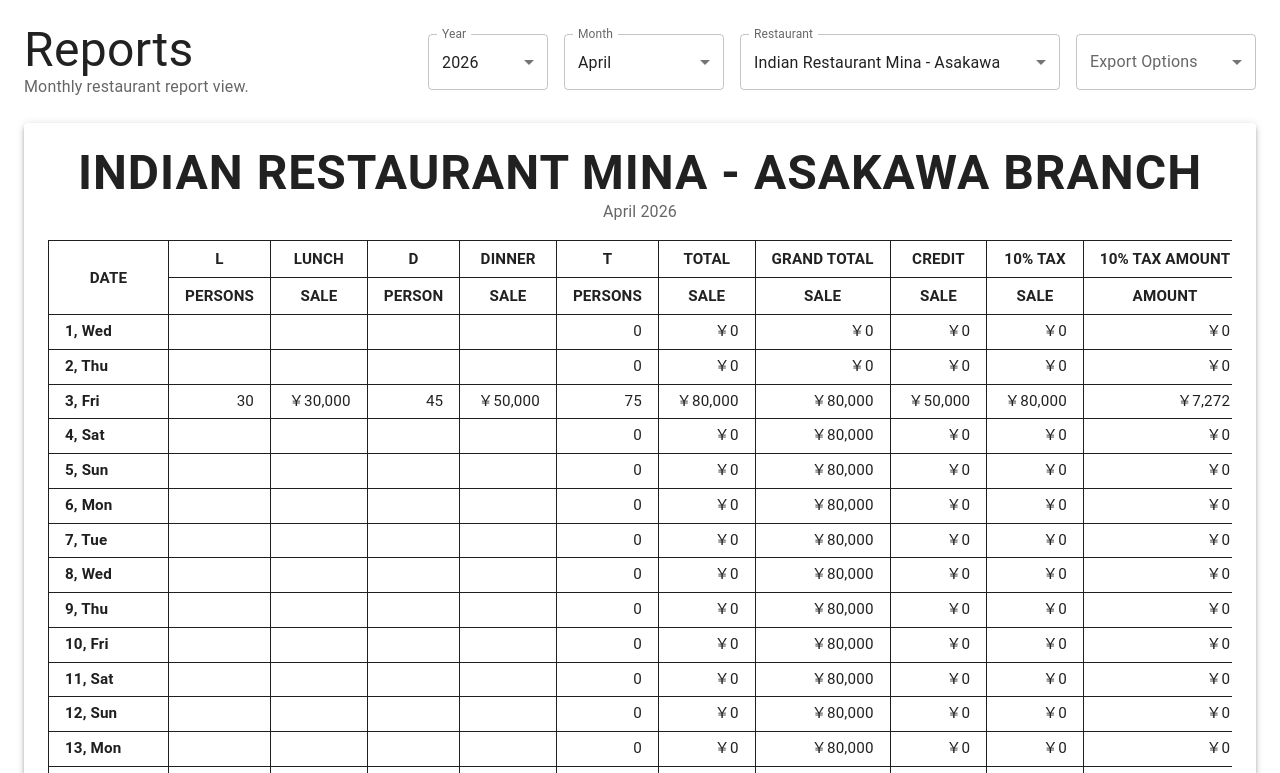
Test: Reports page › opens a day detail popup when a report date is clicked
Expected: the text "Monthly restaurant report view." is shown, [24, 75, 249, 99]
Click the dropdown named "month" at (595, 62), box [578, 53, 611, 72]
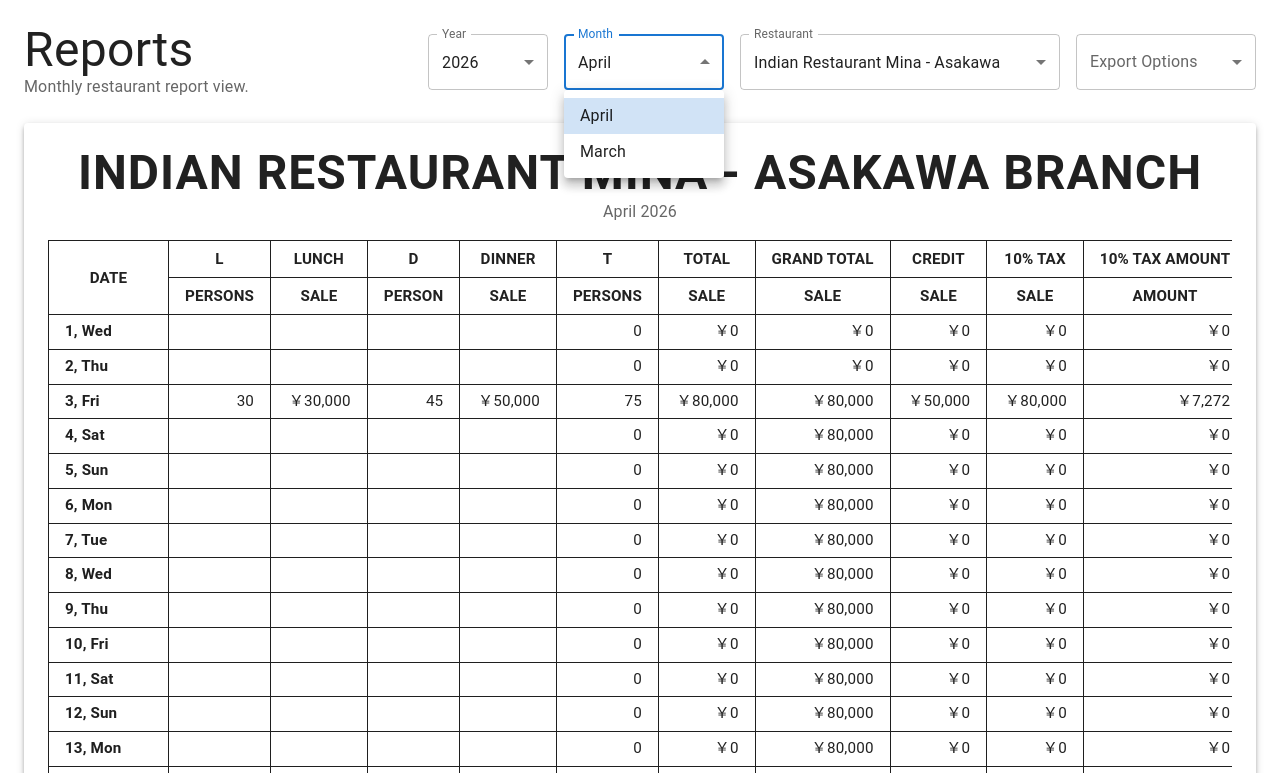
Click the option "March" at (603, 152), box [580, 142, 626, 161]
(page scrolled)
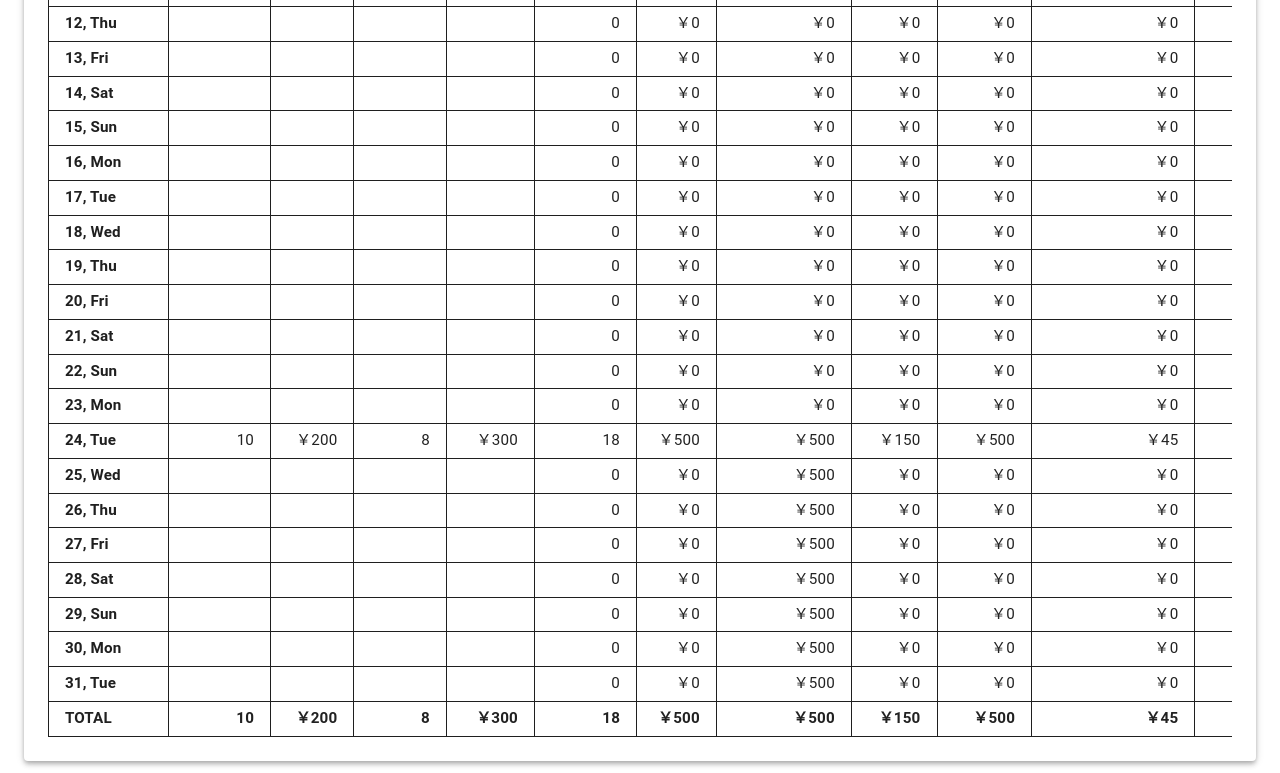
Click the button "24, Tue" at (91, 441), box [65, 430, 116, 452]
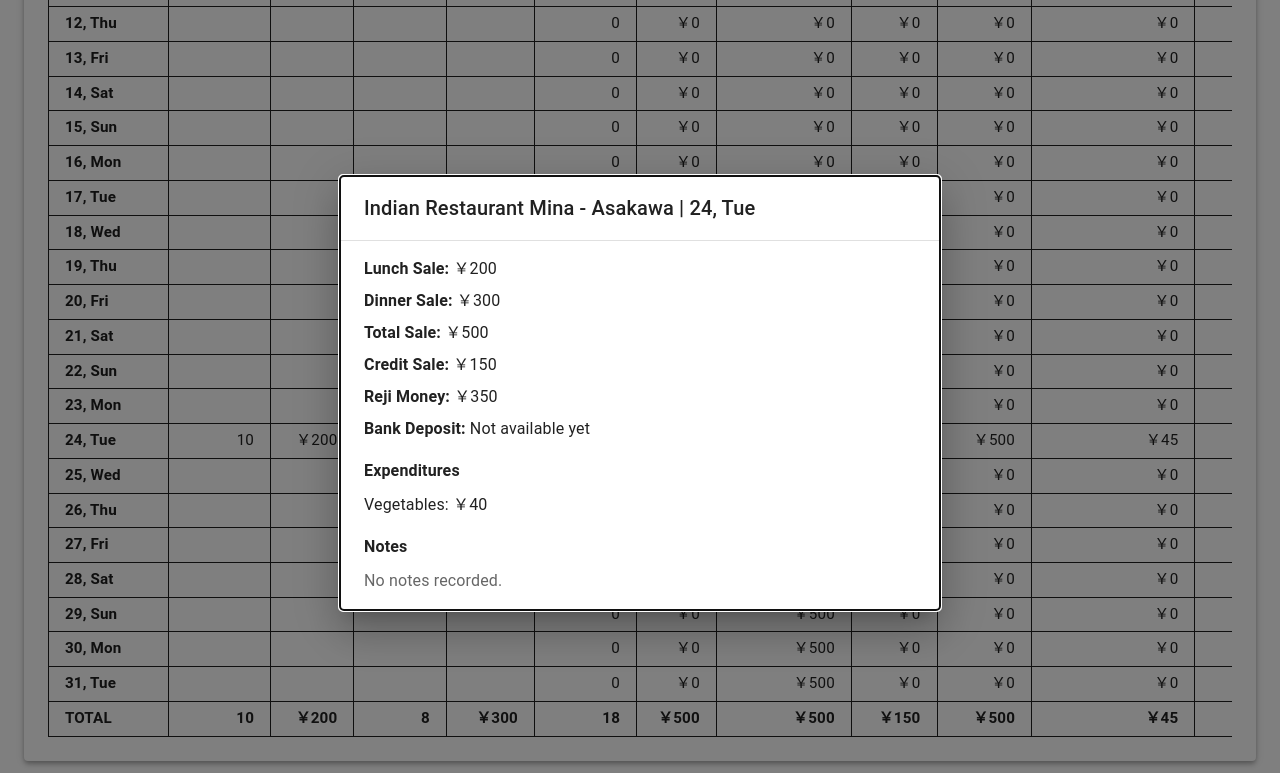
Expected: the text "Lunch Sale:" is shown, [364, 259, 449, 278]
Expected: the text "Dinner Sale:" is shown, [364, 291, 453, 310]
Expected: the text "Credit Sale:" is shown, [364, 355, 449, 374]
